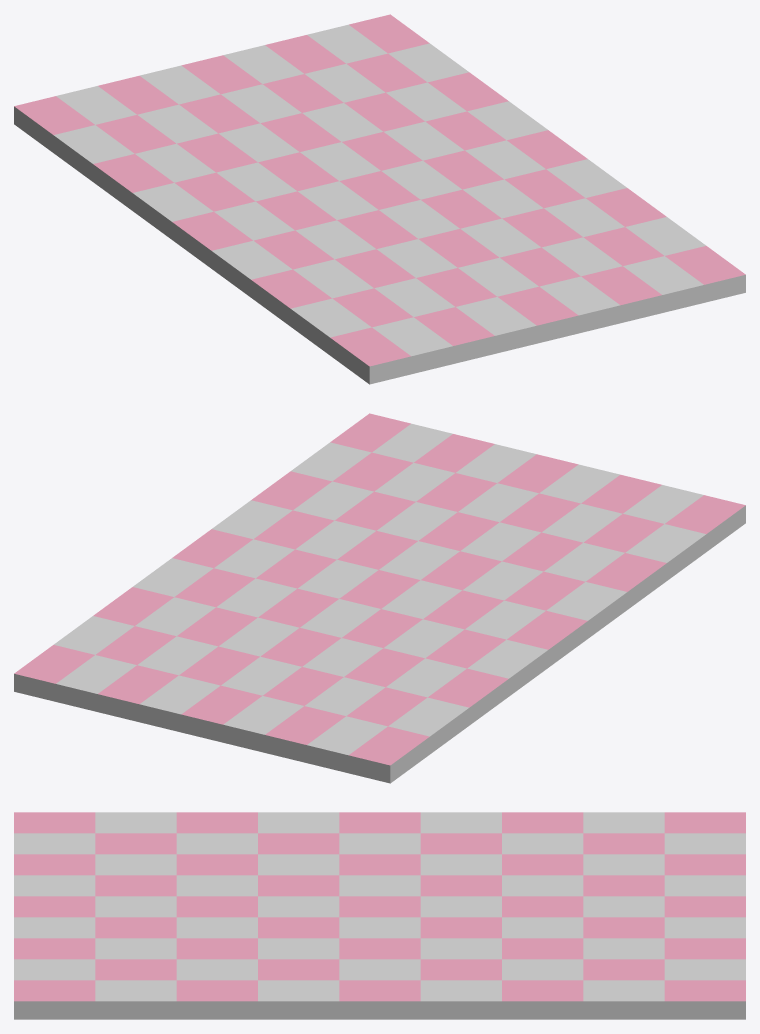
Rendered from floor.fbx.
The picture shows the model from 3 angles, top to bottom: view 1: azimuth 30°, elevation 25°; view 2: azimuth 150°, elevation 25°; view 3: azimuth 270°, elevation 25°; orthographic projection. The views are drawn at different scales.
Visible parts, largest first — view 1: pCube9; view 2: pCube9; view 3: pCube9.
Boxes of the visible parts, x1,y1,x2,y2 form: pCube9: [14, 14, 745, 384]; pCube9: [14, 413, 745, 783]; pCube9: [14, 812, 745, 1019].
Bounding box in the file's own units: 987 × 45.22 × 1616.
